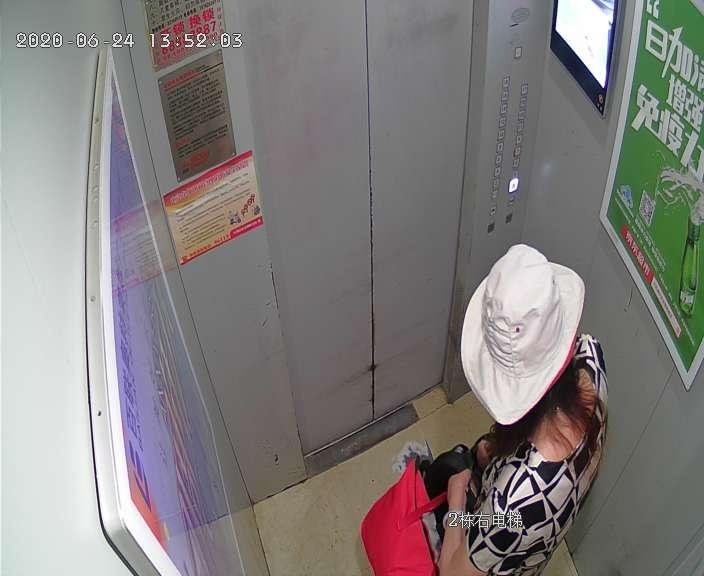person: (421, 245, 608, 576)
